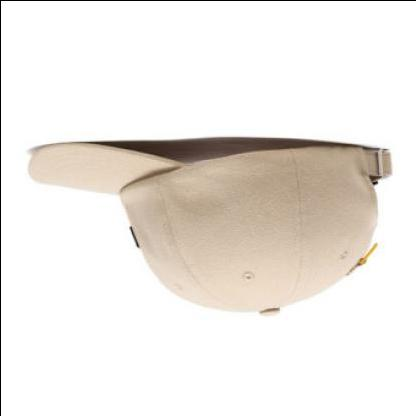cap: (17, 127, 404, 324)
